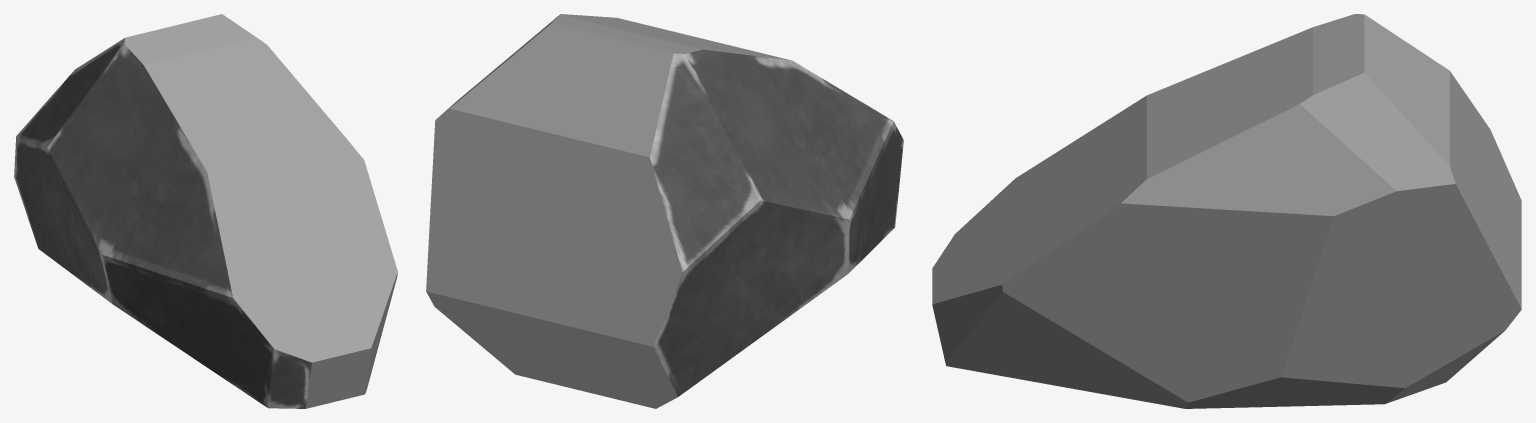
File: SM_Roca2.fbx
3 renders of one model, left to right at view 1: azimuth 30°, elevation 25°; view 2: azimuth 150°, elevation 25°; view 3: azimuth 270°, elevation 25°, orthographic. The views are drawn at different scales.
Visible parts, largest first — view 1: SM_Roca1; view 2: SM_Roca1; view 3: SM_Roca1.
Boxes of the visible parts, box(x1,y1,x2,y2) form: SM_Roca1: box(14, 14, 397, 408); SM_Roca1: box(426, 14, 903, 408); SM_Roca1: box(932, 14, 1521, 408).
Size of the model in its own units: 123 by 122 by 208.
